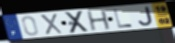0: (21, 16, 40, 37)
H: (86, 9, 113, 32)
J: (138, 5, 155, 27)
L: (112, 9, 134, 29)
X: (64, 10, 91, 34), (38, 13, 64, 35)
